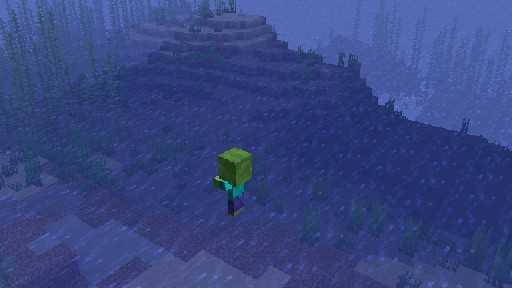zombie: (212, 146, 252, 216)
